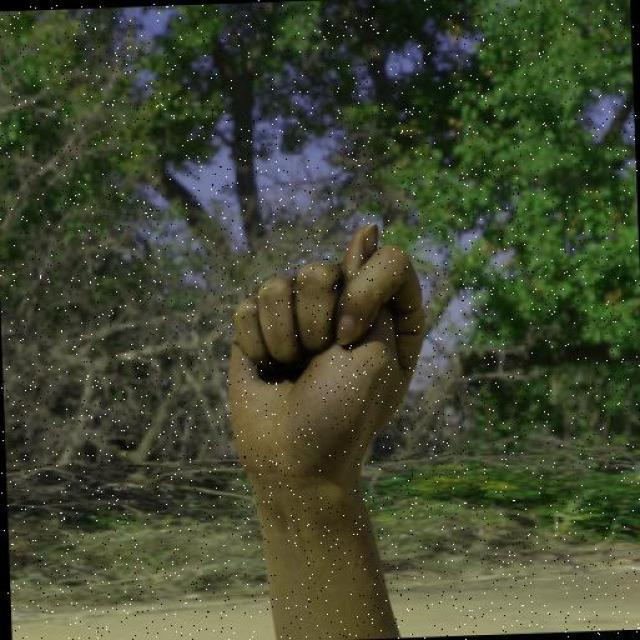T: (216, 218, 438, 487)
